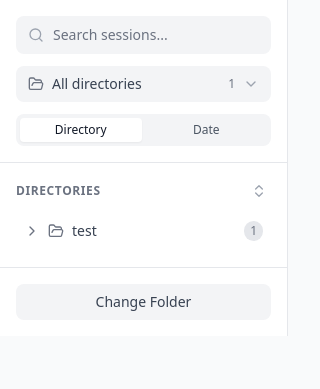
Test: SessionBrowser › untitled sessions › shows "Untitled Session" for sessions without titles
// First expand the directory
Click the button with aria-label "Expand test" at (144, 231), box [16, 215, 271, 247]
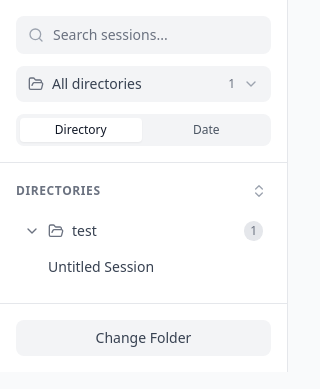
Expected: the text "Untitled Session" is shown, [48, 257, 154, 276]
